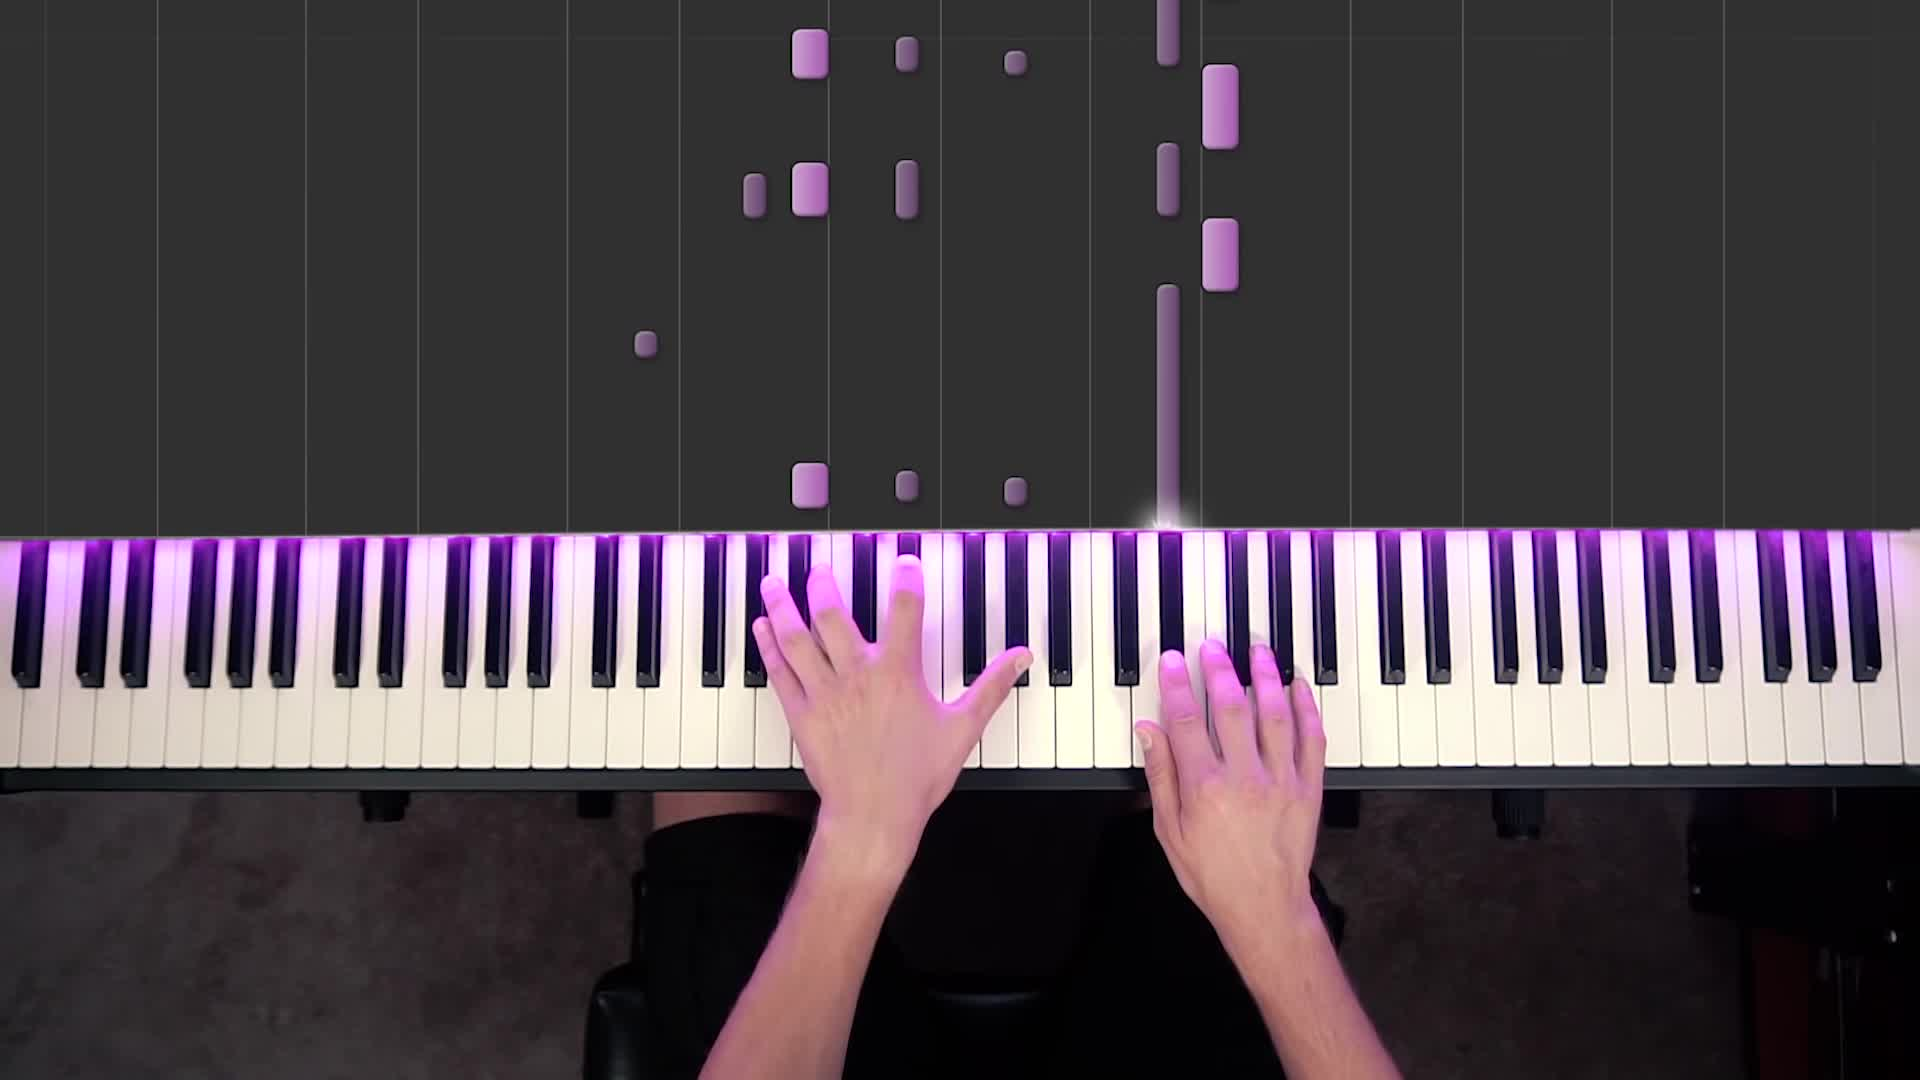left: (749, 550, 1033, 807)
right: (1135, 636, 1325, 919)
